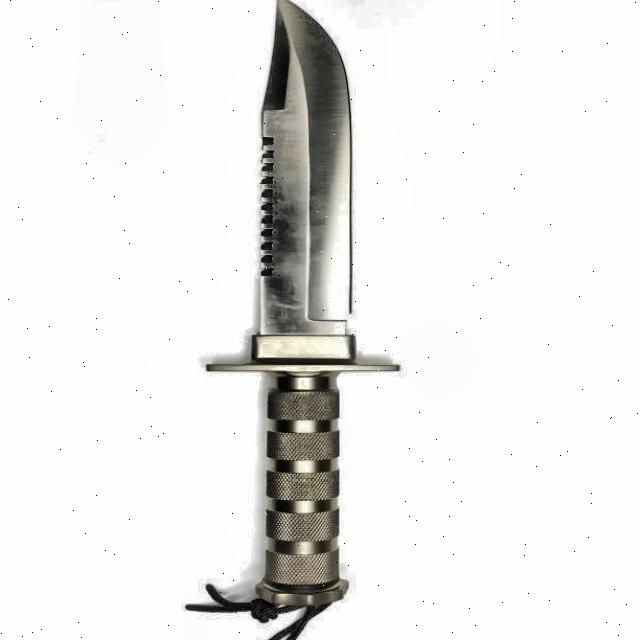knife: (180, 0, 404, 621)
